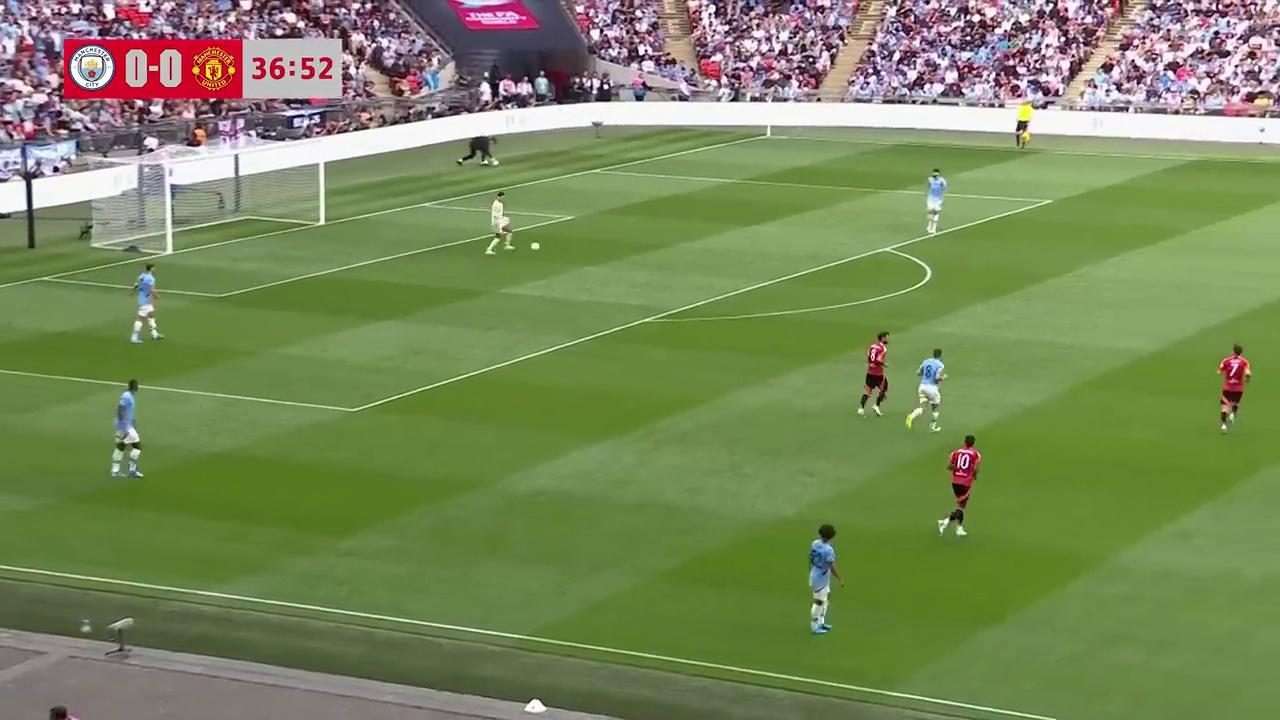ball: (529, 237, 543, 252)
player: (937, 434, 980, 539), (807, 524, 844, 635), (904, 347, 946, 431), (109, 378, 143, 479), (1216, 343, 1251, 431), (858, 331, 890, 417), (129, 264, 163, 344), (485, 191, 515, 255), (924, 167, 946, 236)
referee: (1014, 101, 1032, 150)
